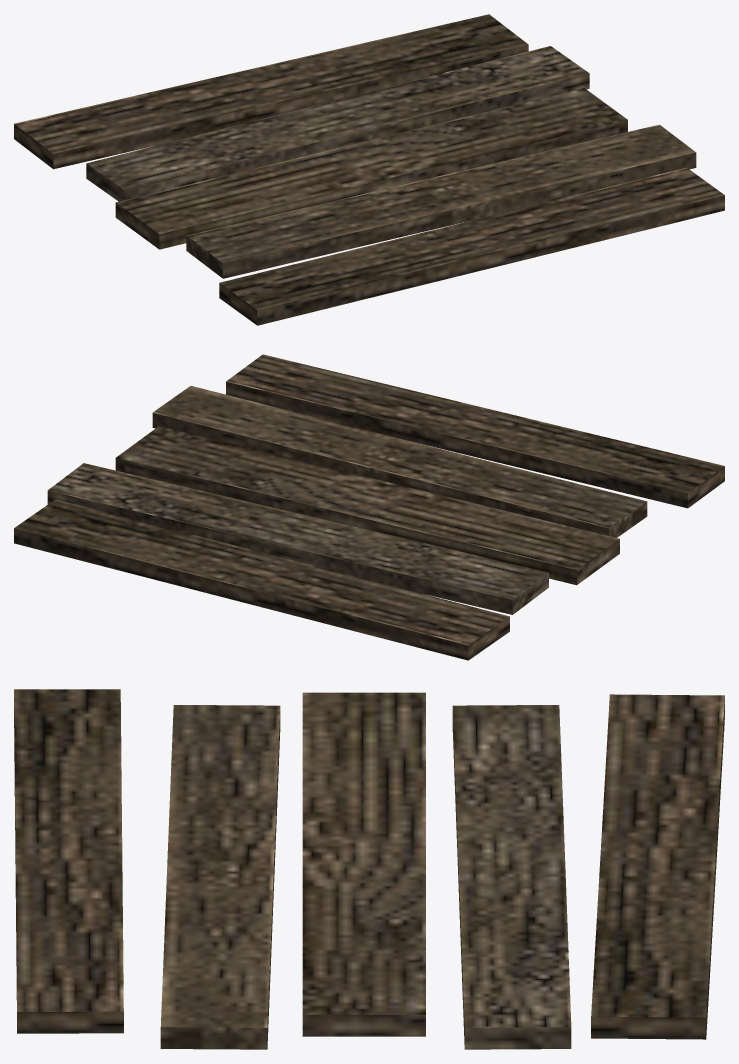
The model's file is Planks.fbx.
3 views of the same model, one above another, from view 1: azimuth 30°, elevation 25°; view 2: azimuth 150°, elevation 25°; view 3: azimuth 270°, elevation 25° (orthographic). The views are drawn at different scales.
Parts seen in each view (by area): view 1: Planks; view 2: Planks; view 3: Planks.
Part boxes in pixels (x1,y1,x2,y2): Planks: (14, 14, 724, 325); Planks: (14, 354, 724, 660); Planks: (14, 689, 724, 1049).
Bounding box in the file's own units: 0.661 × 0.0197 × 0.5863.
